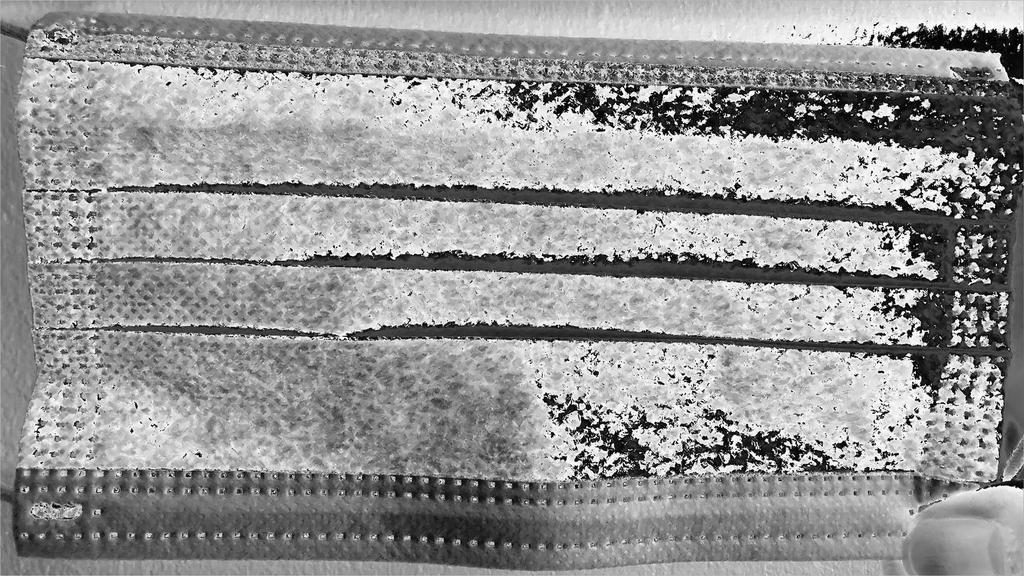High GSM: (4, 11, 1023, 488)
